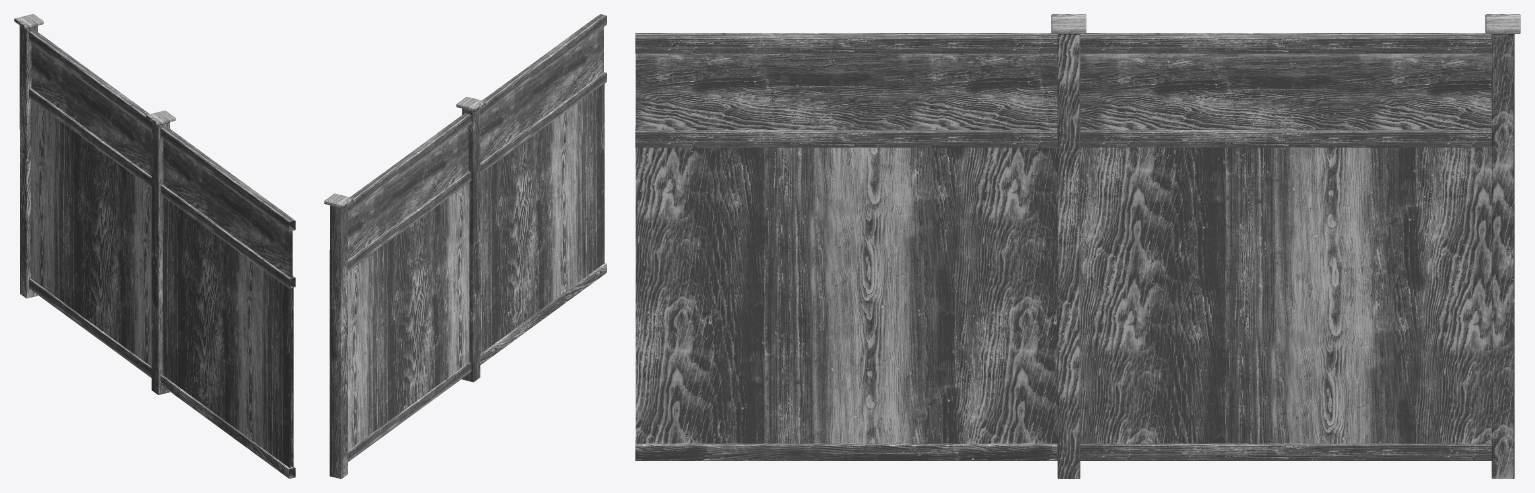
The model's file is SM_OutsideFence_B_400.fbx.
3 views of the same model, side by side, from view 1: azimuth 30°, elevation 25°; view 2: azimuth 150°, elevation 25°; view 3: azimuth 270°, elevation 25° (orthographic). The views are drawn at different scales.
Visible parts, largest first — view 1: SM_OutsideFence_B_400; view 2: SM_OutsideFence_B_400; view 3: SM_OutsideFence_B_400.
Boxes of the visible parts, x1,y1,x2,y2 form: SM_OutsideFence_B_400: (14, 14, 295, 478); SM_OutsideFence_B_400: (324, 14, 606, 478); SM_OutsideFence_B_400: (635, 14, 1520, 478).
Bounding box in the file's own units: 17.2 × 408 × 230.
Materials: 3 (3 with a texture image).
